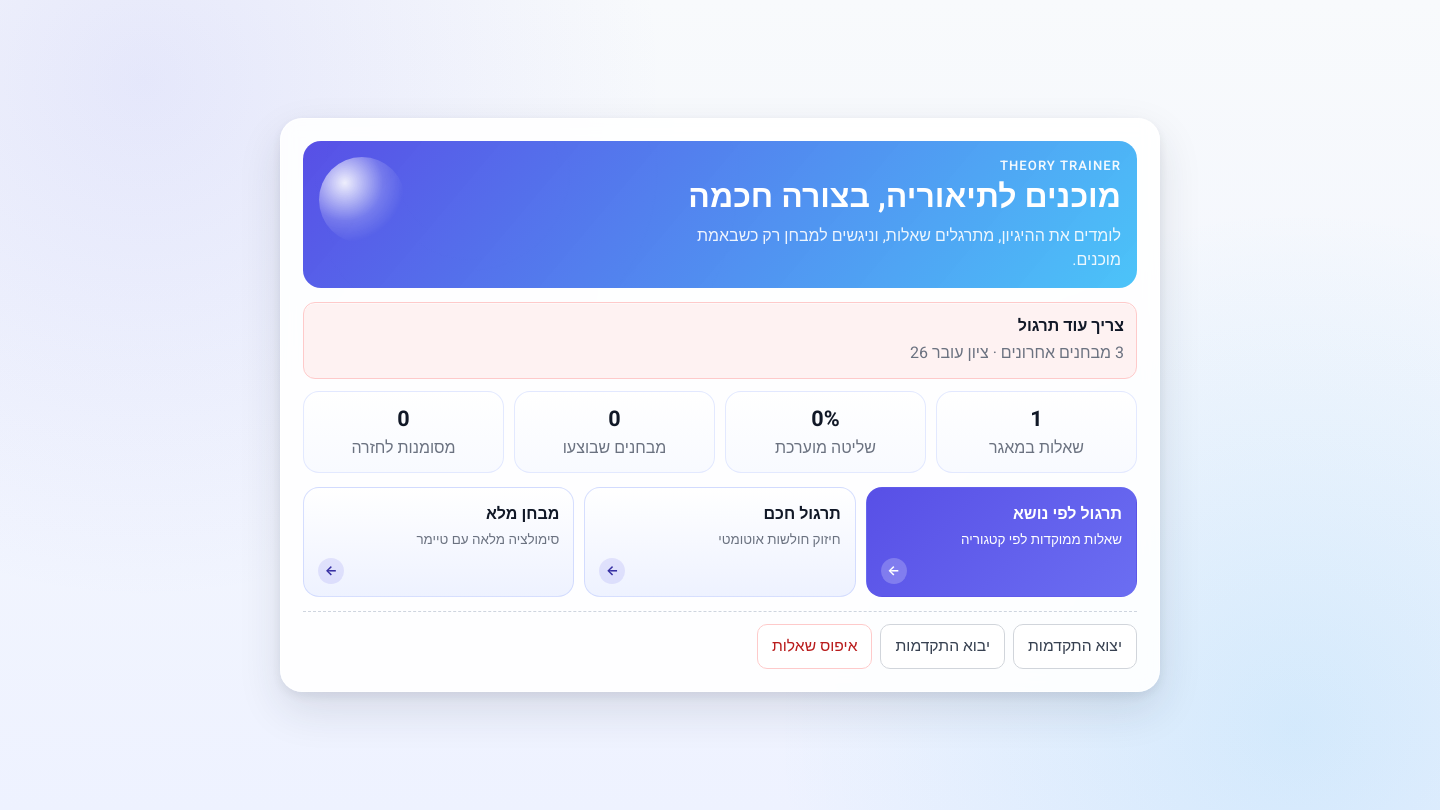
App › navigates from home to learn mode
Click the text "תרגול לפי נושא". click: (1067,514)
box: x1=1013 y1=502 x2=1122 y2=526
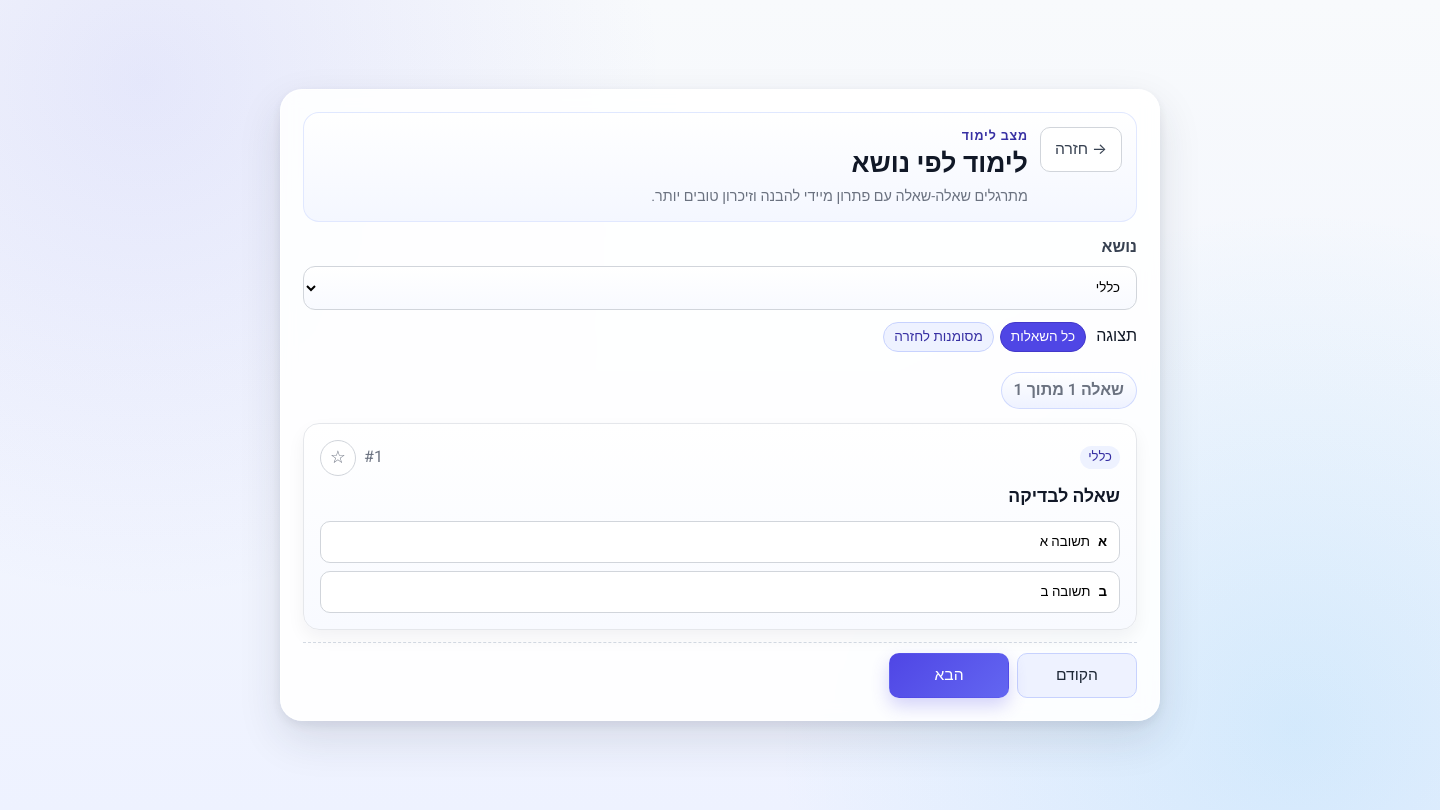
Expected: the heading "שאלה לבדיקה" is shown, x1=1008 y1=484 x2=1120 y2=509
